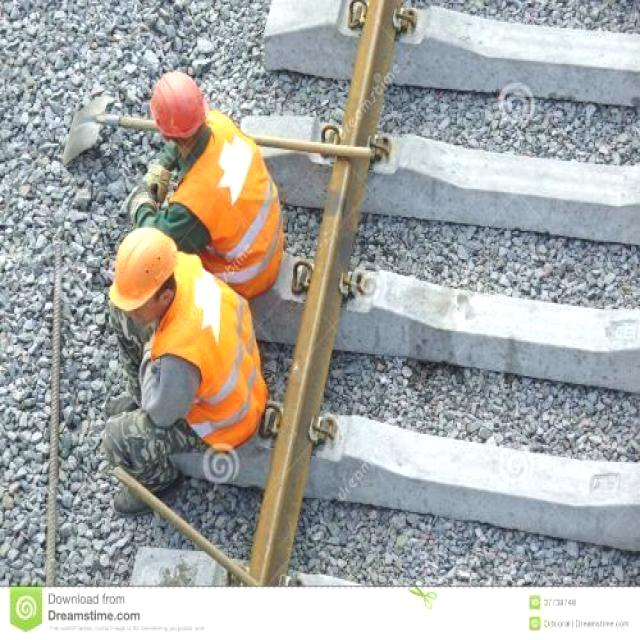head_helmet: (104, 226, 175, 311), (145, 69, 208, 138)
person: (83, 231, 276, 520), (118, 69, 296, 302)
vest: (143, 249, 273, 460), (168, 103, 286, 298)
